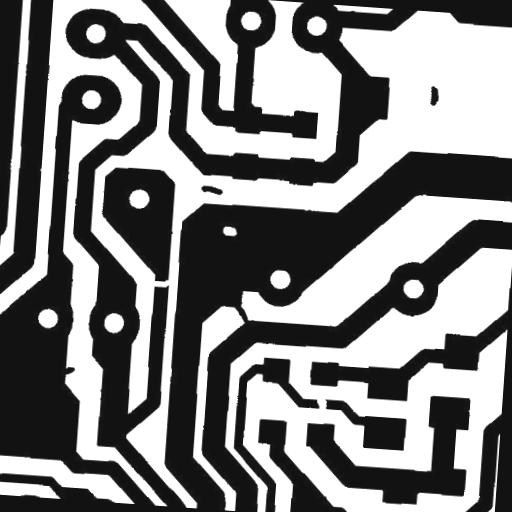copper: (192, 176, 231, 202), (422, 78, 447, 114)
open: (140, 270, 178, 296), (308, 390, 335, 418)
pin-hole: (214, 218, 245, 244)
short: (225, 294, 258, 331)
spur: (52, 358, 83, 386)
